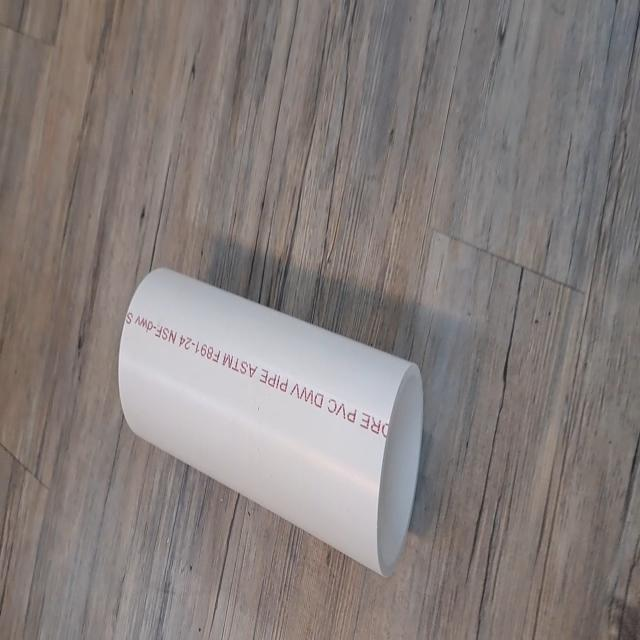CORAL: (112, 257, 430, 585)
